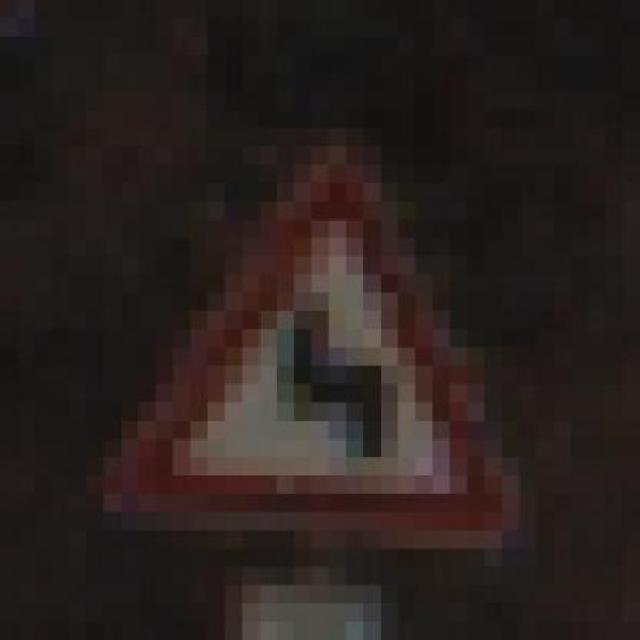Left Zig Zag Traffic: (103, 91, 571, 548)
